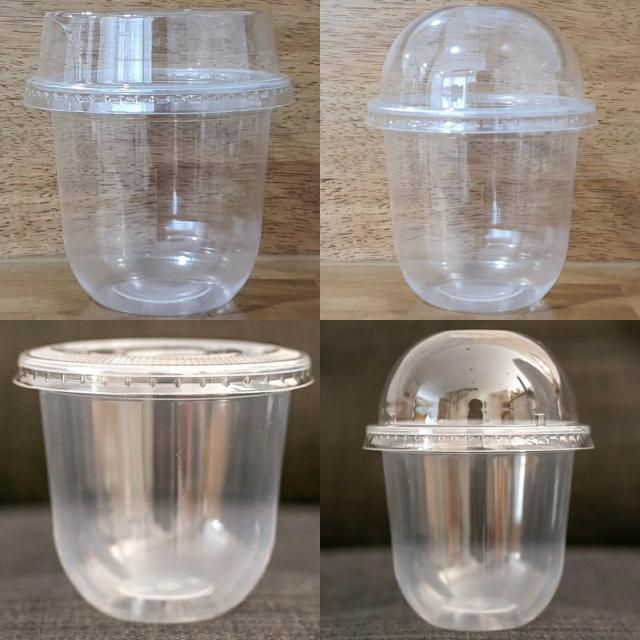Single-Use-Plastic: (14, 338, 314, 623), (25, 10, 292, 316), (366, 6, 596, 312), (364, 330, 592, 629)
